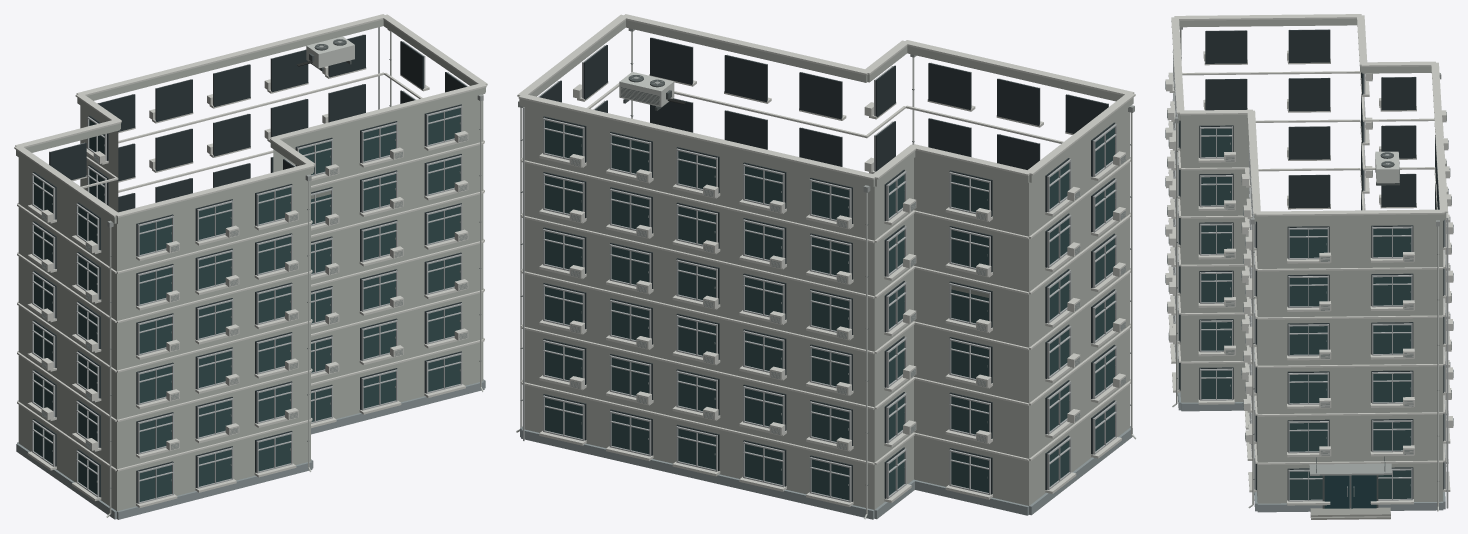
File: osm_way_223859801.glb
3 renders of one model, left to right at view 1: azimuth 30°, elevation 25°; view 2: azimuth 150°, elevation 25°; view 3: azimuth 270°, elevation 25°, orthographic. The views are drawn at different scales.
Visible parts, largest first — view 1: Architecture | 4, Windows and facade details | 4, Roof services | 4, EXTERIOR::osm_way_223859801::rainwater and roof service deta; view 2: Architecture | 4, Windows and facade details | 4, Roof services | 4, EXTERIOR::osm_way_223859801::rainwater and roof service deta; view 3: Architecture | 4, Windows and facade details | 4, Roof services | 4, EXTERIOR::osm_way_223859801::inferred entry doors canopy and, EXTERIOR::osm_way_223859801::rainwater and roof service deta.
Part boxes in pixels (<box>): Architecture | 4: <box>16,19,485,519</box>; Windows and facade details | 4: <box>27,27,468,507</box>; Roof services | 4: <box>14,14,487,217</box>; EXTERIOR::osm_way_223859801::rainwater and roof service deta: <box>106,29,483,517</box>; Architecture | 4: <box>519,20,1133,519</box>; Windows and facade details | 4: <box>523,37,1125,506</box>; Roof services | 4: <box>517,14,1135,179</box>; EXTERIOR::osm_way_223859801::rainwater and roof service deta: <box>516,28,1136,519</box>; Architecture | 4: <box>1177,18,1446,512</box>; Windows and facade details | 4: <box>1165,29,1453,508</box>; Roof services | 4: <box>1171,14,1447,216</box>; EXTERIOR::osm_way_223859801::inferred entry doors canopy and: <box>1309,456,1391,519</box>; EXTERIOR::osm_way_223859801::rainwater and roof service deta: <box>1172,27,1441,511</box>.
Bounding box in the file's own units: 29.9 × 20.58 × 17.28.
